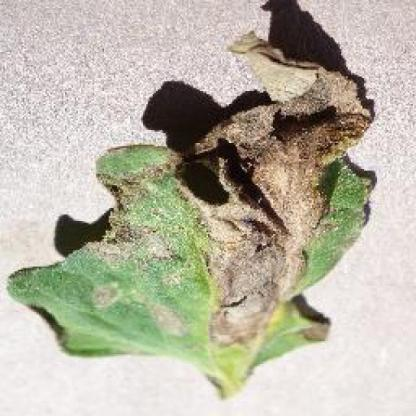Tomato_Blight: (10, 29, 376, 392)
